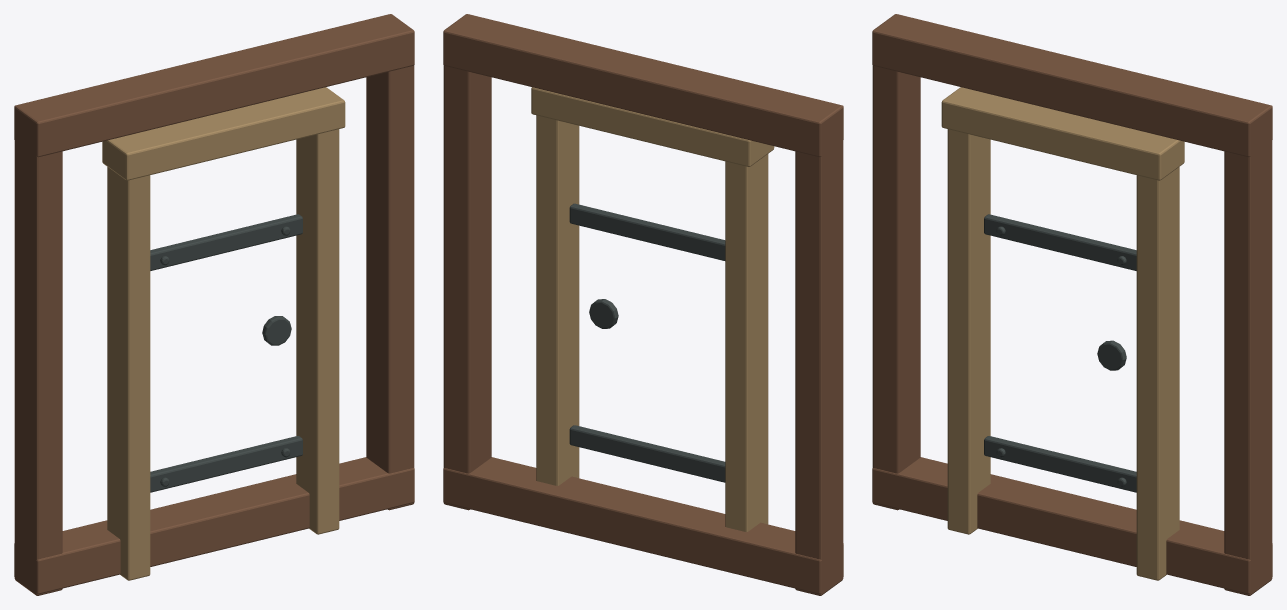
File: wall_door_2m__structure.glb
3 renders of one model, left to right at view 1: azimuth 30°, elevation 25°; view 2: azimuth 150°, elevation 25°; view 3: azimuth 330°, elevation 25°, orthographic.
Visible parts, largest first — view 1: wall_door_2m__structure__mesh_00; view 2: wall_door_2m__structure__mesh_00; view 3: wall_door_2m__structure__mesh_00.
Part boxes in pixels (box(x1,y1,x2,y2)): wall_door_2m__structure__mesh_00: box(14, 14, 414, 595); wall_door_2m__structure__mesh_00: box(443, 14, 843, 595); wall_door_2m__structure__mesh_00: box(872, 14, 1272, 595).
Bounding box in the file's own units: 2 × 2.4 × 0.31.
